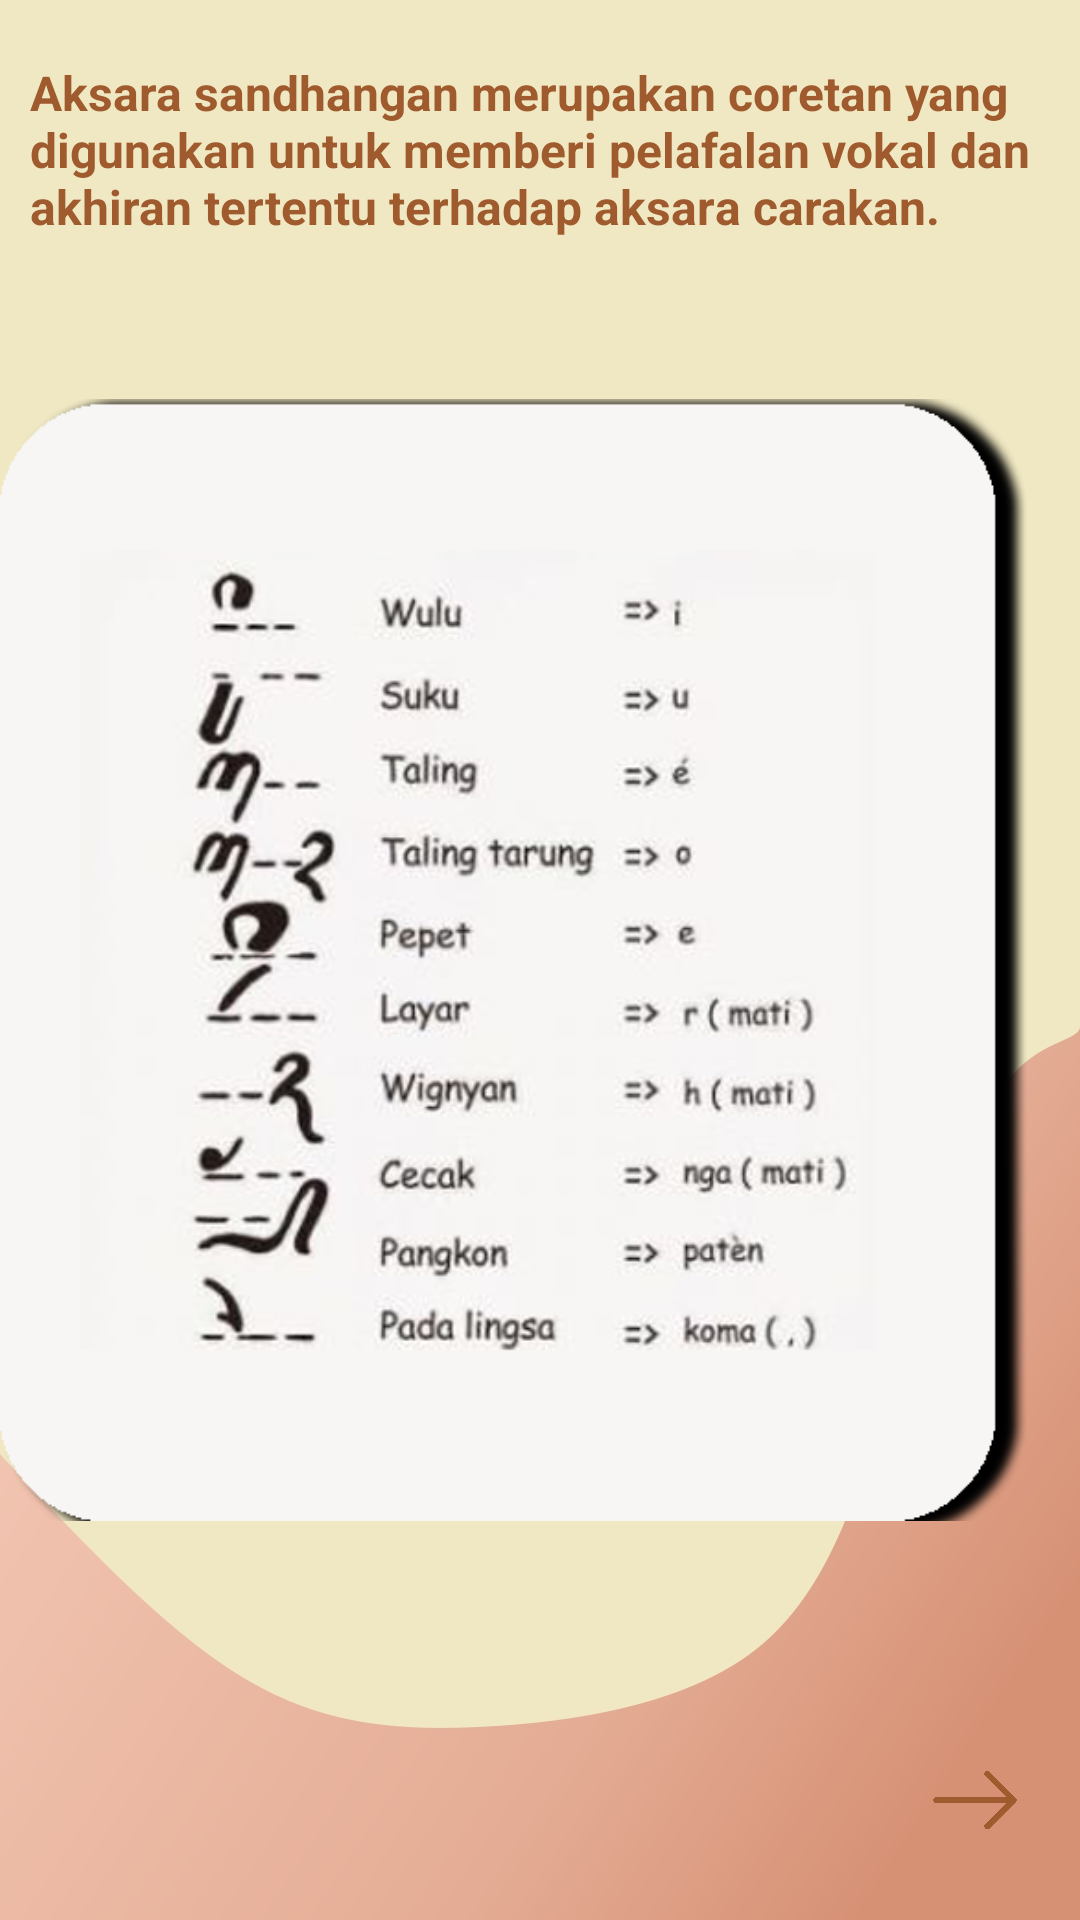

Screen size 1080 x 1920. Icon name, then its center in pixels as (x=x, y=y):
right arrow: (x=975, y=1800)
